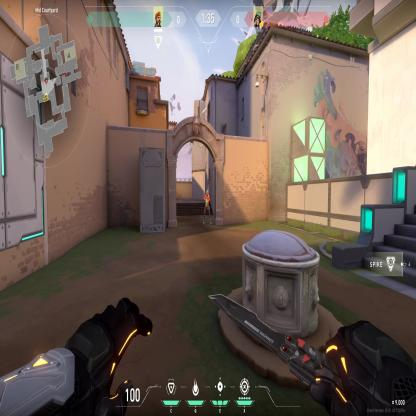enemy: (202, 190, 212, 224)
